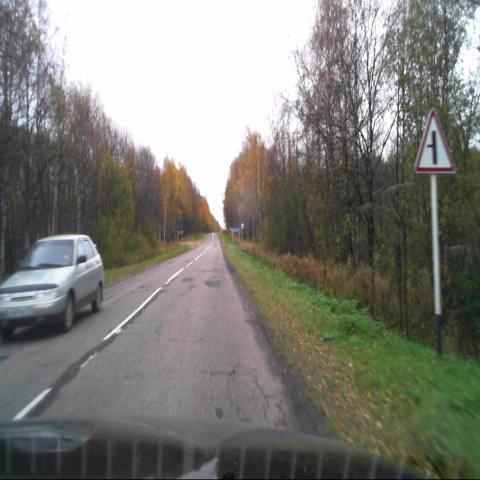2_3_3: (413, 107, 457, 177)
